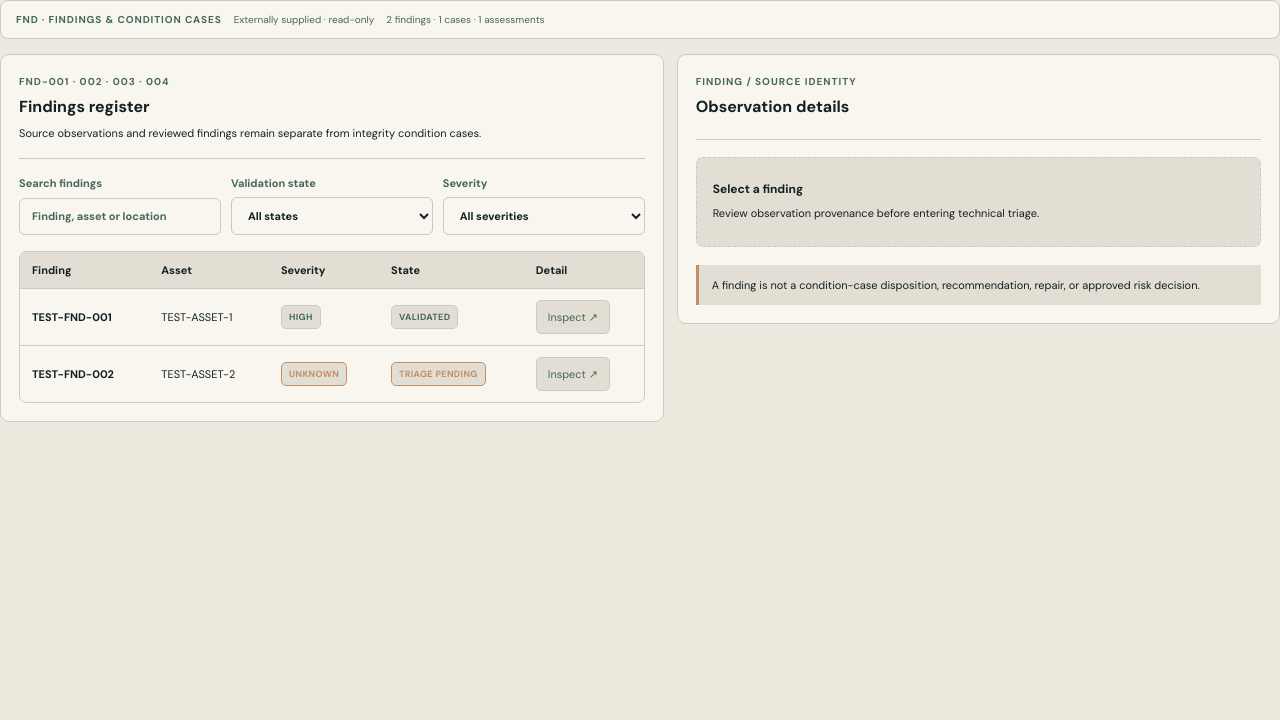
Scenario: SCR-FND-001 findings register › shows source and validation basis when selecting a finding
Click the button with aria-label "Inspect finding TEST-FND-001": point(573, 317) [536, 300, 610, 334]
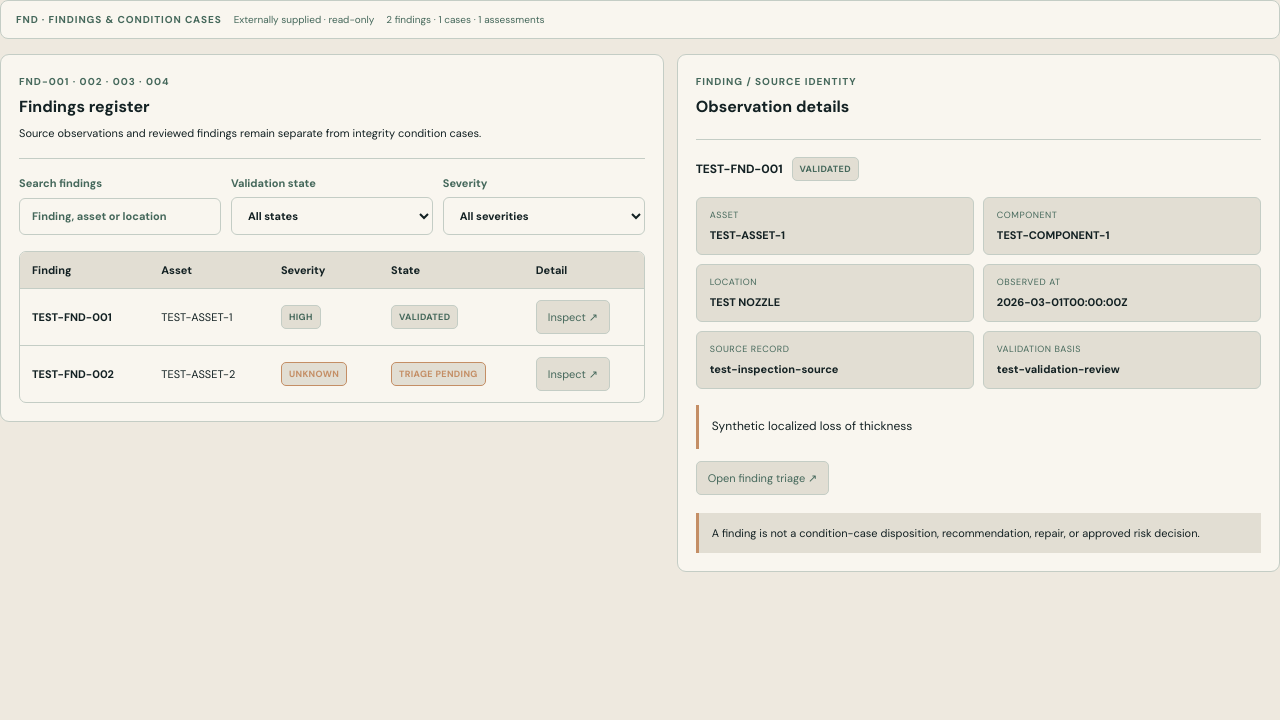
Expected: the text "test-inspection-source" is shown, [710, 362, 838, 376]
Expected: the text "test-validation-review" is shown, [997, 362, 1120, 376]
